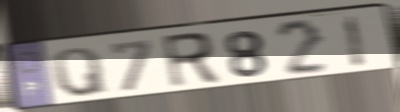2: (274, 17, 335, 80)
7: (109, 37, 155, 94)
8: (224, 29, 271, 79)
I: (343, 13, 369, 70)
Q: (49, 45, 112, 99)
R: (159, 30, 224, 91)
